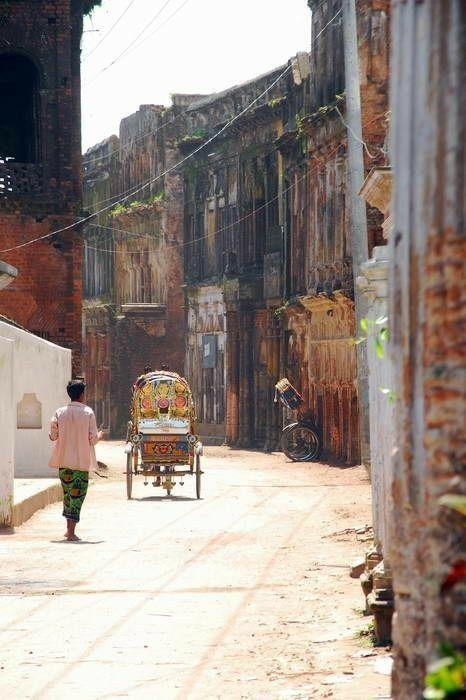Rickshaw: (125, 371, 201, 498), (275, 378, 320, 460)
